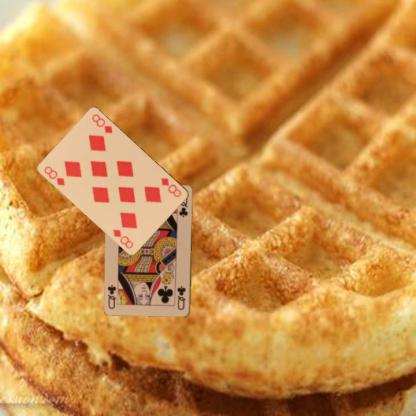8d: (159, 175, 182, 198), (42, 164, 66, 186)
Qc: (175, 284, 187, 311)
